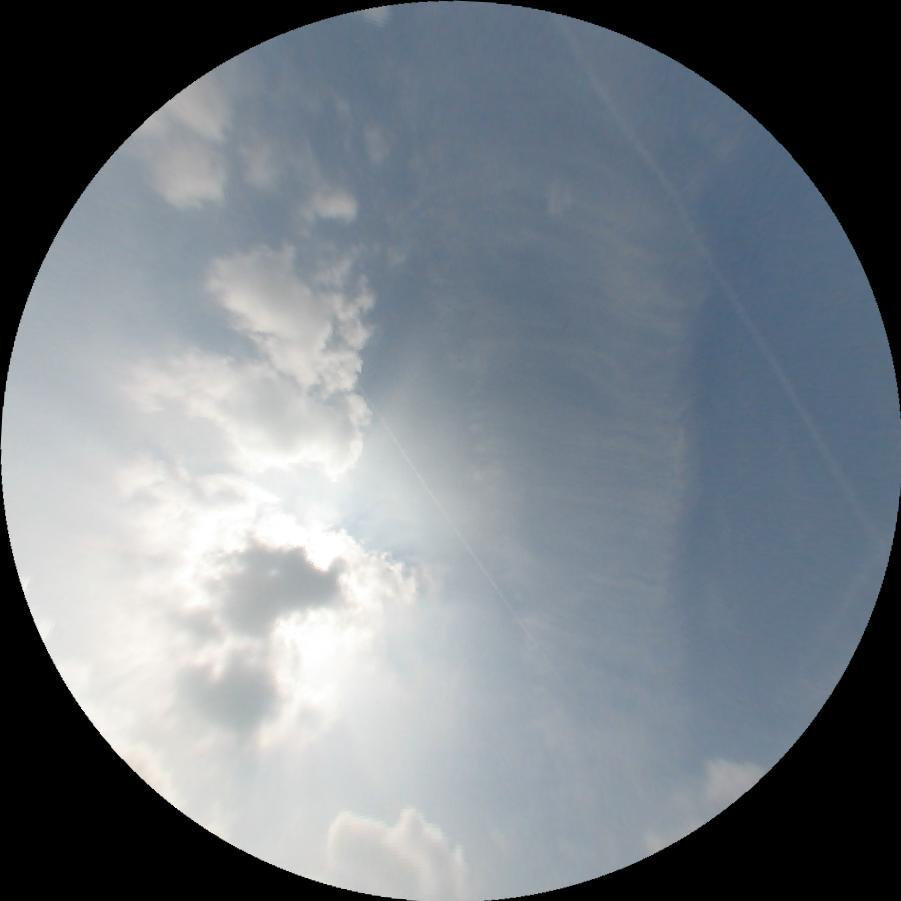contrail old: (547, 3, 892, 557), (351, 379, 548, 662)
sun: (188, 520, 356, 698)
